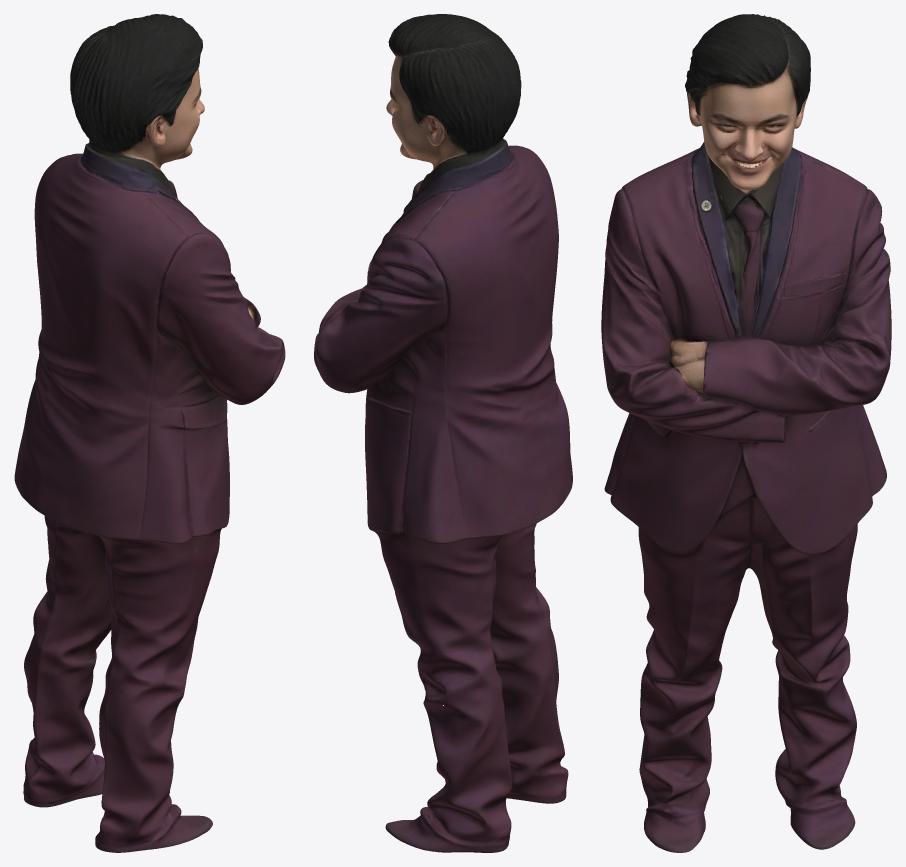
3 renders of one model, left to right at view 1: azimuth 30°, elevation 25°; view 2: azimuth 150°, elevation 25°; view 3: azimuth 270°, elevation 25°, orthographic. The views are drawn at different scales.
Parts seen in each view (by area): view 1: tripo_node_2fb7c4c2-690b-405f-aee7-5223c78cc147; view 2: tripo_node_2fb7c4c2-690b-405f-aee7-5223c78cc147; view 3: tripo_node_2fb7c4c2-690b-405f-aee7-5223c78cc147.
Part boxes in pixels (x1,y1,x2,y2): tripo_node_2fb7c4c2-690b-405f-aee7-5223c78cc147: (14, 14, 285, 852); tripo_node_2fb7c4c2-690b-405f-aee7-5223c78cc147: (314, 14, 572, 852); tripo_node_2fb7c4c2-690b-405f-aee7-5223c78cc147: (601, 14, 891, 852).
Bounding box in the file's own units: 0.2687 × 0.9989 × 0.3222.
Materials: 1 (1 with a texture image).
